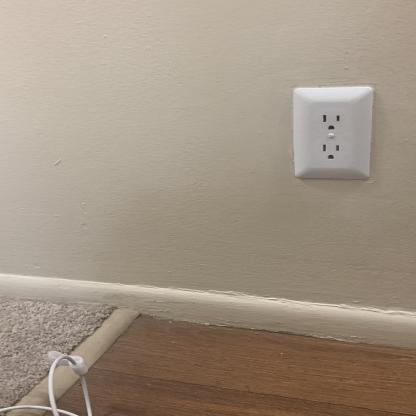OUTLET: (294, 86, 374, 178)
